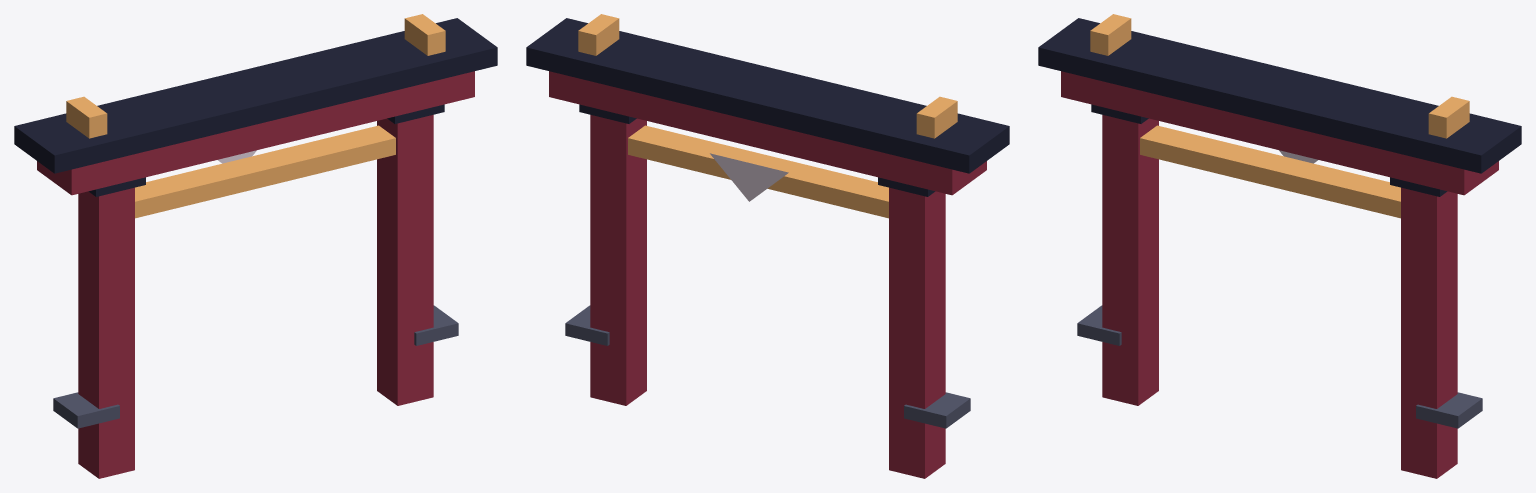
The model's file is dojo_fox_emblem_gate.obj.
3 renders of one model, left to right at view 1: azimuth 30°, elevation 25°; view 2: azimuth 150°, elevation 25°; view 3: azimuth 330°, elevation 25°, orthographic.
Parts seen in each view (by area): view 1: dojo_fox_emblem_gate; view 2: dojo_fox_emblem_gate; view 3: dojo_fox_emblem_gate.
Boxes of the visible parts, x1,y1,x2,y2 form: dojo_fox_emblem_gate: [14, 14, 497, 478]; dojo_fox_emblem_gate: [526, 14, 1009, 478]; dojo_fox_emblem_gate: [1038, 14, 1521, 478].
Bounding box in the file's own units: 8.9 × 7 × 1.4.
